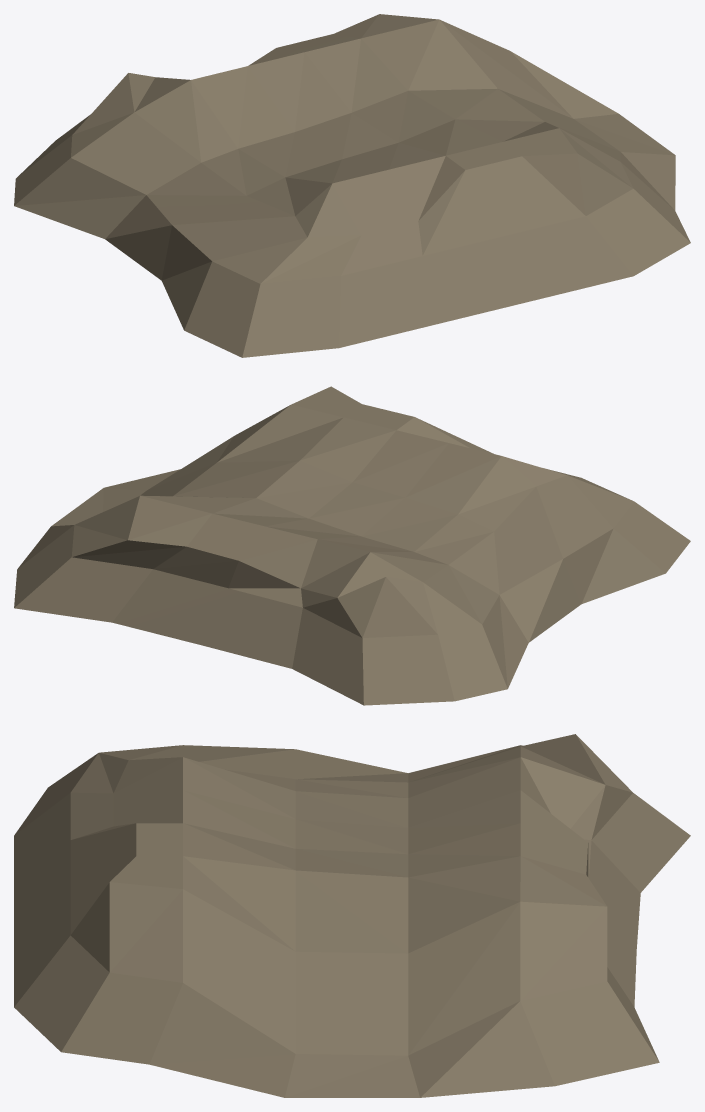
Rendered from Hill_03.glb.
3 renders of one model, top to bottom at view 1: azimuth 30°, elevation 25°; view 2: azimuth 150°, elevation 25°; view 3: azimuth 270°, elevation 25°, orthographic. The views are drawn at different scales.
Parts seen in each view (by area): view 1: Hill_temperate_climate_003; view 2: Hill_temperate_climate_003; view 3: Hill_temperate_climate_003.
Boxes of the visible parts, x1,y1,x2,y2 form: Hill_temperate_climate_003: [14, 14, 690, 357]; Hill_temperate_climate_003: [14, 386, 690, 705]; Hill_temperate_climate_003: [14, 734, 690, 1097].
Bounding box in the file's own units: 25.68 × 4.35 × 23.
Materials: 1 (1 with a texture image).
